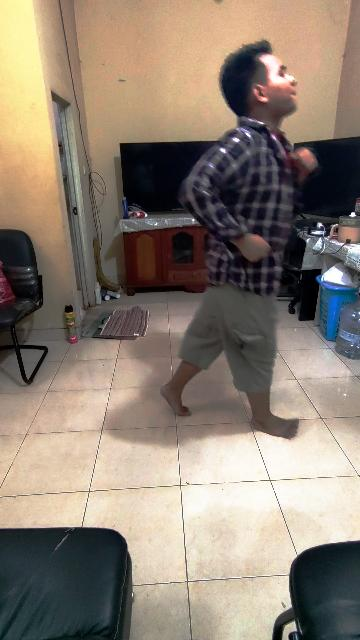berlari: (160, 40, 318, 442)
